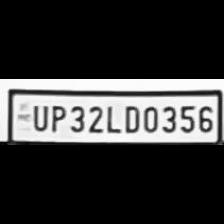0: (140, 103, 160, 133)
2: (84, 102, 104, 134)
3: (158, 102, 176, 134), (65, 102, 84, 132)
5: (176, 102, 196, 132)
6: (195, 103, 213, 133)
D: (120, 103, 140, 133)
L: (103, 102, 119, 134)
P: (46, 103, 66, 133)
U: (28, 102, 48, 132)
